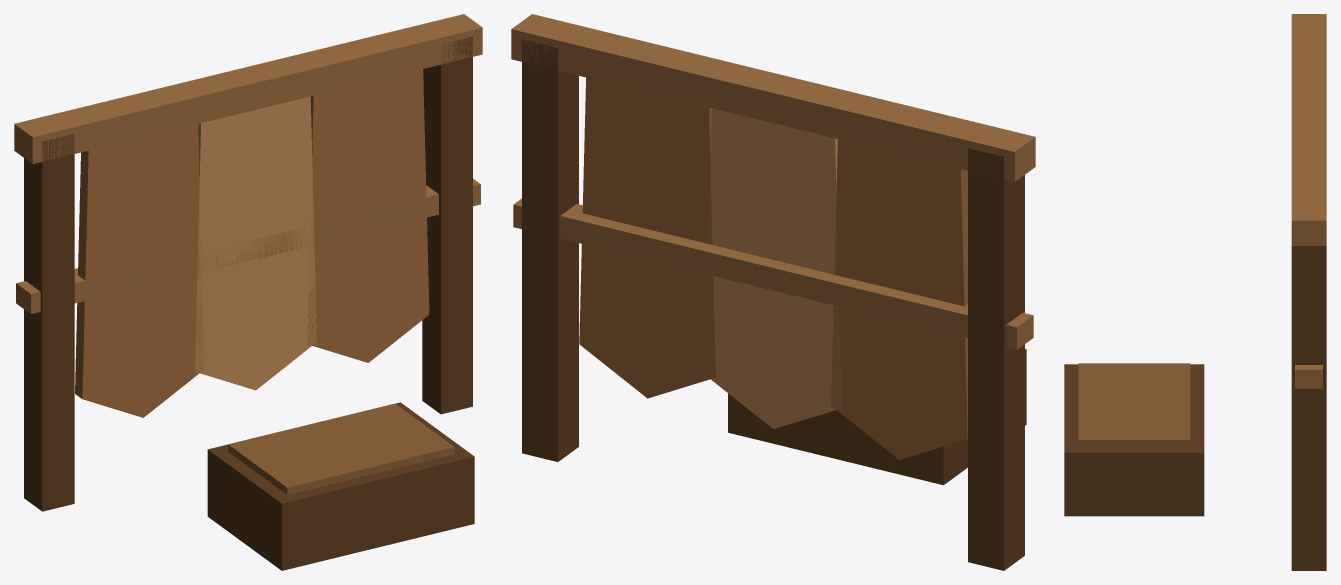
Rendered from tanner.glb.
The picture shows the model from 3 angles, left to right: view 1: azimuth 30°, elevation 25°; view 2: azimuth 150°, elevation 25°; view 3: azimuth 270°, elevation 25°; orthographic projection. The views are drawn at different scales.
Parts seen in each view (by area): view 1: tanner; view 2: tanner; view 3: tanner.
Part boxes in pixels (bbox=[...]): tanner: bbox=[14, 14, 482, 570]; tanner: bbox=[511, 14, 1035, 570]; tanner: bbox=[1064, 14, 1326, 570].
Bounding box in the file's own units: 1.4 × 1.12 × 0.75.
